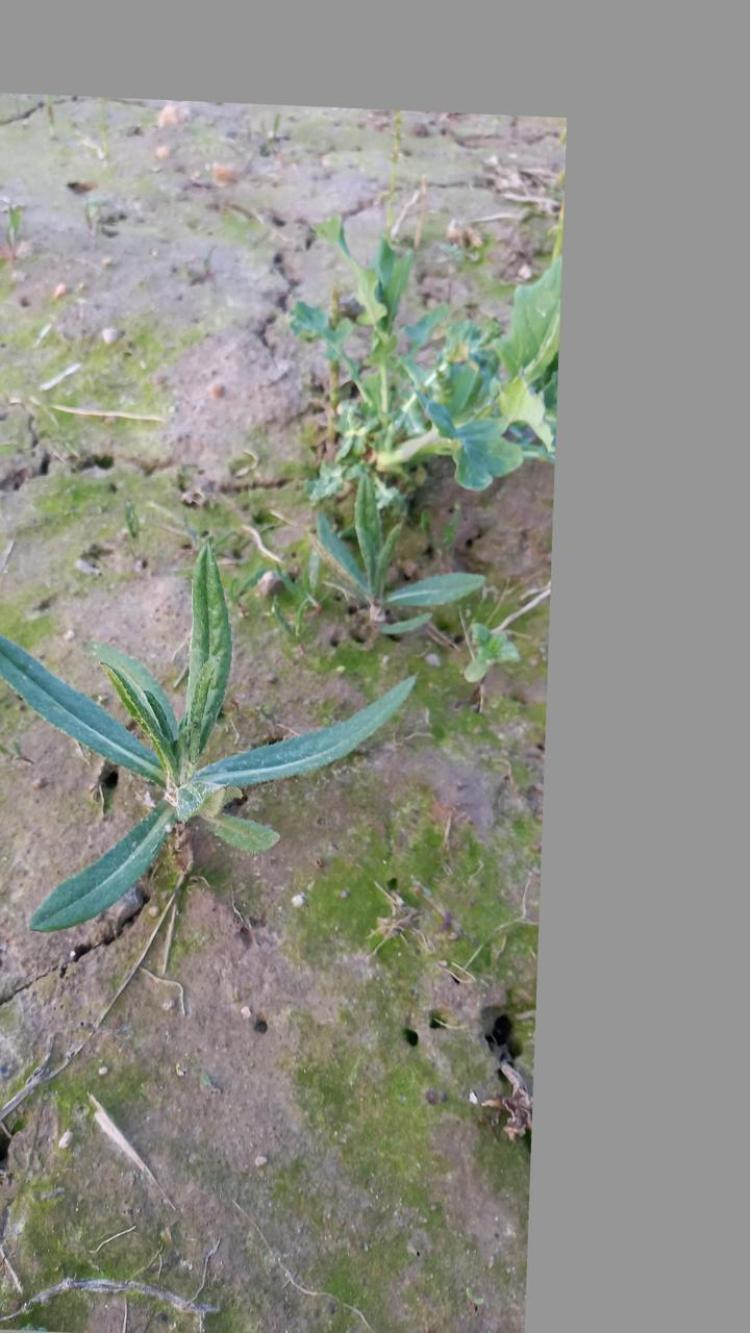osot: (0, 546, 415, 945)
